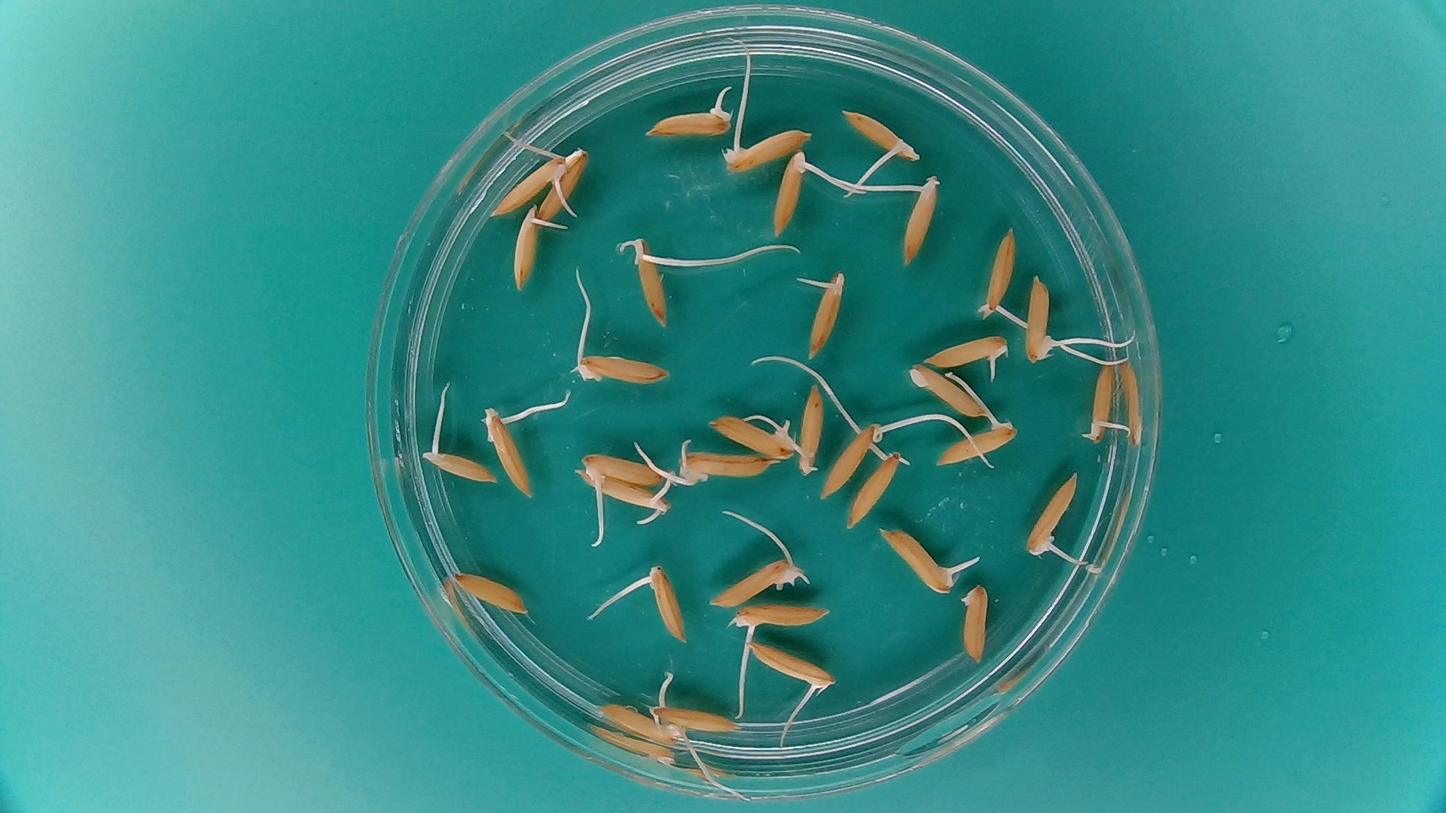no: (907, 362, 990, 421), (449, 569, 532, 616), (957, 580, 990, 665)
yes: (487, 149, 572, 219), (477, 403, 535, 501), (1023, 467, 1081, 562), (877, 526, 953, 597), (838, 106, 923, 166), (748, 639, 837, 695), (572, 468, 671, 517), (800, 264, 850, 361), (845, 449, 905, 527), (934, 413, 1019, 468), (821, 421, 884, 495), (706, 559, 801, 607), (974, 221, 1020, 320), (767, 146, 815, 240), (705, 410, 797, 459), (899, 171, 944, 269), (718, 126, 810, 173), (627, 233, 671, 329), (1019, 271, 1063, 366), (594, 700, 683, 746), (1080, 355, 1124, 444), (570, 349, 672, 387), (674, 449, 771, 488), (923, 330, 1013, 372), (575, 448, 667, 488), (648, 696, 743, 734), (641, 104, 735, 140), (795, 376, 828, 477), (645, 567, 688, 644), (729, 602, 834, 633), (547, 142, 590, 215), (510, 201, 544, 292), (423, 448, 498, 484)
